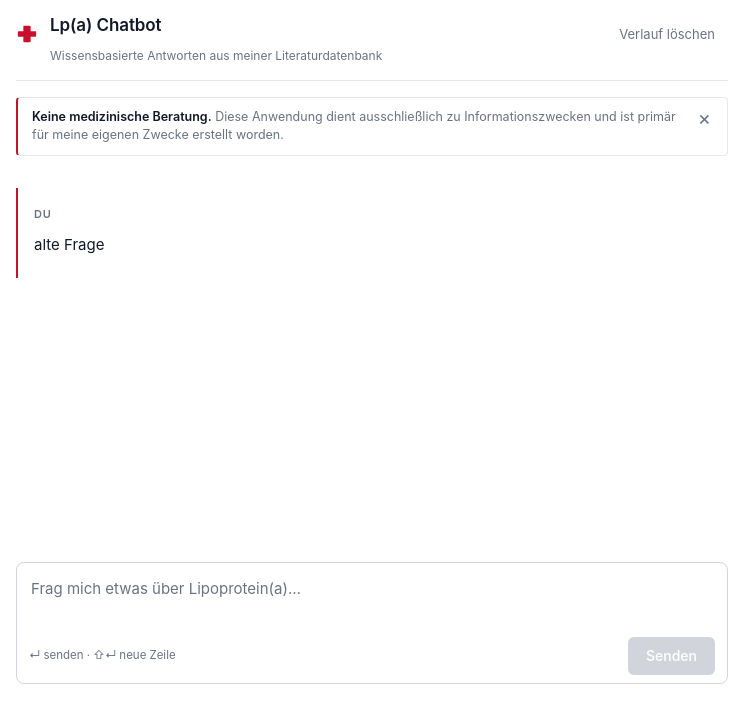
Scenario: App › clears history when the clear button is pressed
Expected: the text "alte Frage" is shown, [34,235,104,254]
Click the button "Verlauf löschen". click: point(667, 34)
box: [606,17,728,51]
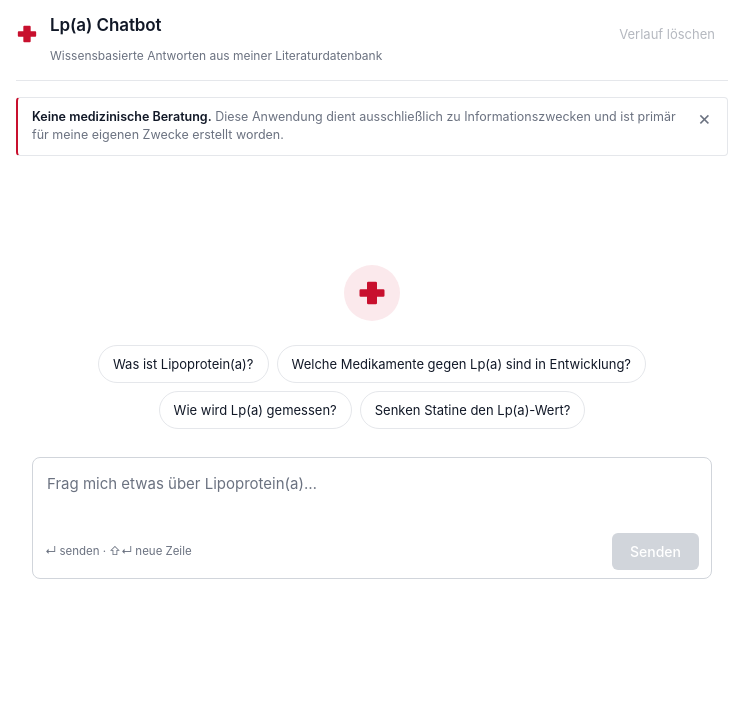
Now the text "alte Frage" is gone
